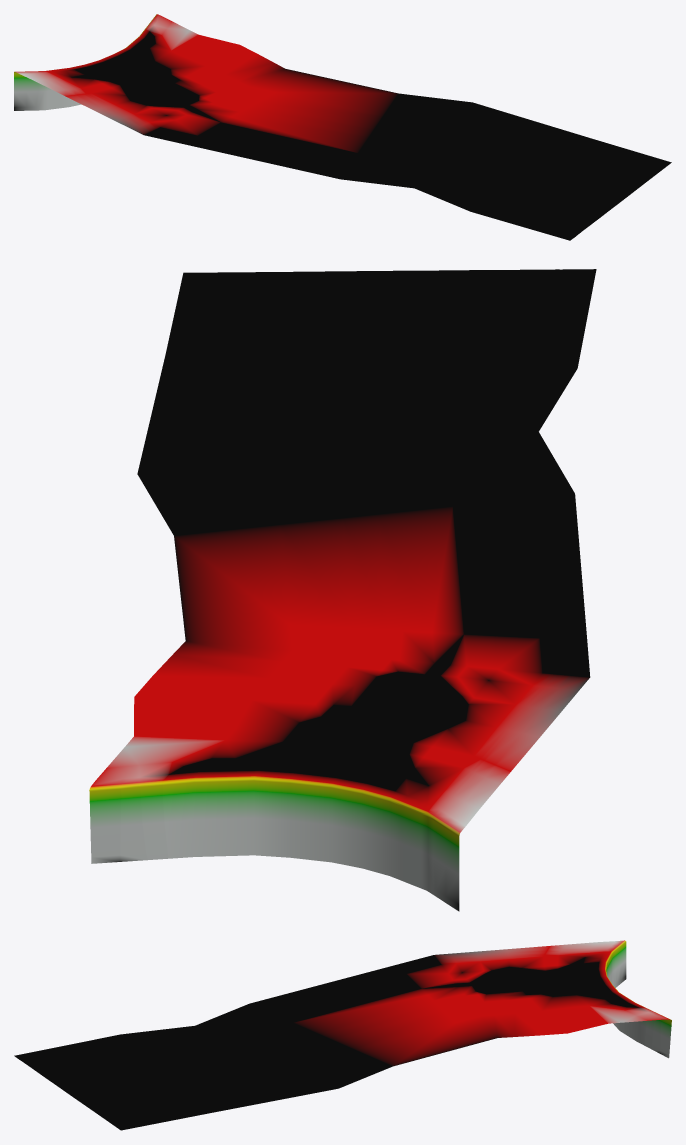
3 renders of one model, top to bottom at view 1: azimuth 30°, elevation 25°; view 2: azimuth 150°, elevation 25°; view 3: azimuth 270°, elevation 25°, orthographic. The views are drawn at different scales.
Parts seen in each view (by area): view 1: G:\FFXIV-MapTools\exports\d2f2\bg\ex1\02_dra_d2\fld\d2f2\bgp; view 2: G:\FFXIV-MapTools\exports\d2f2\bg\ex1\02_dra_d2\fld\d2f2\bgp; view 3: G:\FFXIV-MapTools\exports\d2f2\bg\ex1\02_dra_d2\fld\d2f2\bgp.
Boxes of the visible parts, <box> form: G:\FFXIV-MapTools\exports\d2f2\bg\ex1\02_dra_d2\fld\d2f2\bgp: <box>14,14,671,240</box>; G:\FFXIV-MapTools\exports\d2f2\bg\ex1\02_dra_d2\fld\d2f2\bgp: <box>89,269,596,911</box>; G:\FFXIV-MapTools\exports\d2f2\bg\ex1\02_dra_d2\fld\d2f2\bgp: <box>14,940,671,1130</box>.
Size of the model in its own units: 889 by 85.5 by 1297.
